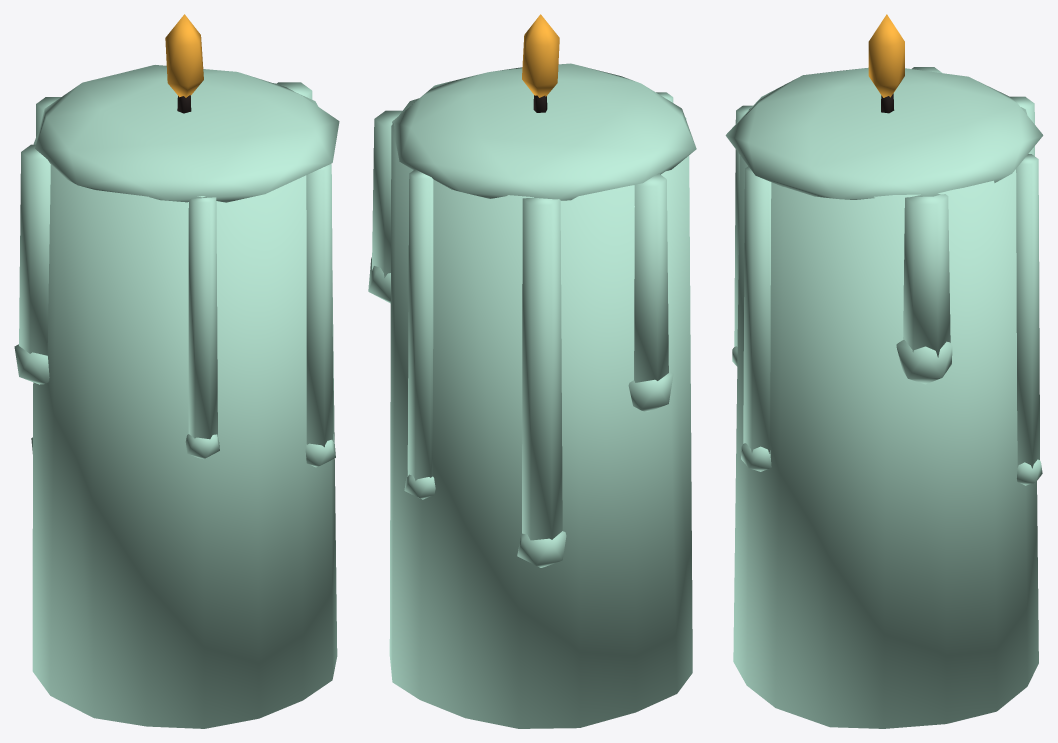
Rendered from Lake_Candle1.fbx.
3 renders of one model, left to right at view 1: azimuth 30°, elevation 25°; view 2: azimuth 150°, elevation 25°; view 3: azimuth 270°, elevation 25°, orthographic.
Visible parts, largest first — view 1: Lake_Candle1; view 2: Lake_Candle1; view 3: Lake_Candle1.
Part boxes in pixels (left/top/right/bottom): Lake_Candle1: left=14, top=14, right=339, bottom=728; Lake_Candle1: left=368, top=14, right=696, bottom=728; Lake_Candle1: left=725, top=14, right=1043, bottom=728.
Size of the model in its own units: 2.24 by 4.69 by 2.07.
